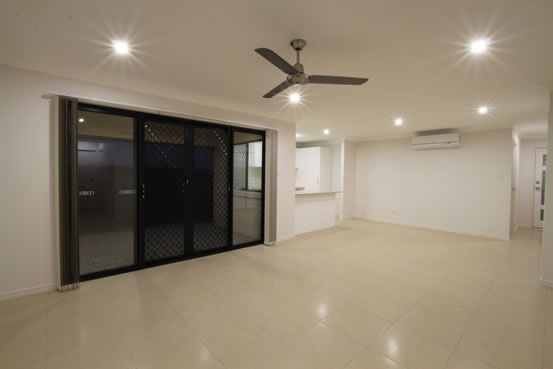ceiling fan: (248, 34, 375, 103)
